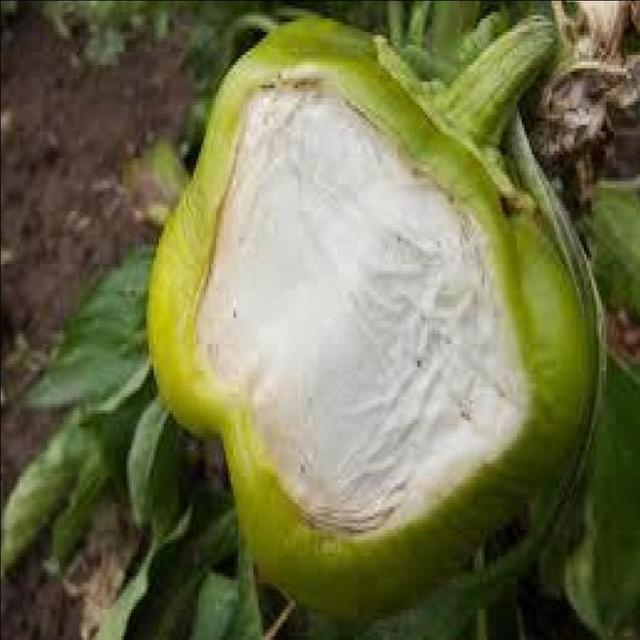Sunscald Fruit: (146, 35, 315, 324)
